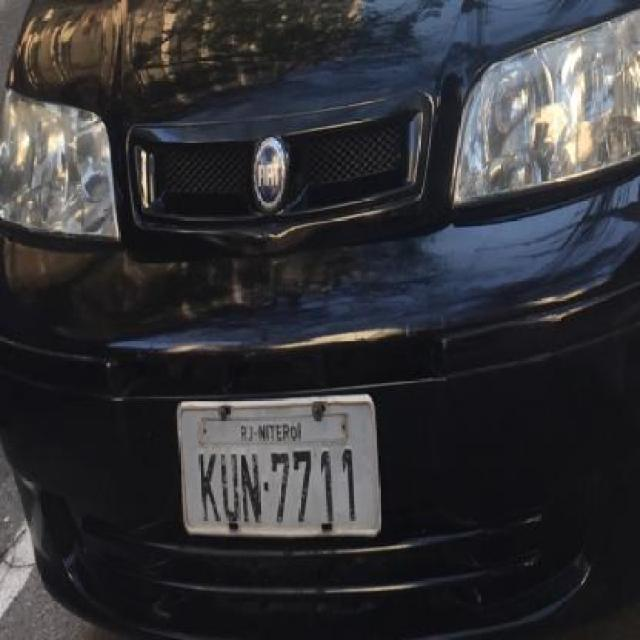old_plate: (170, 391, 386, 549)
